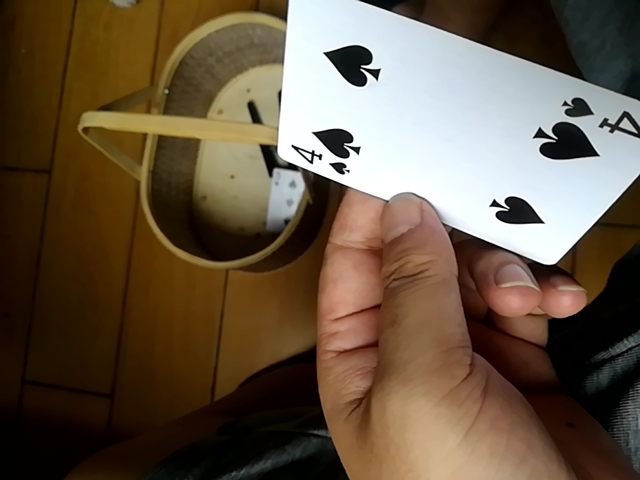ht 4: (274, 2, 640, 276)
